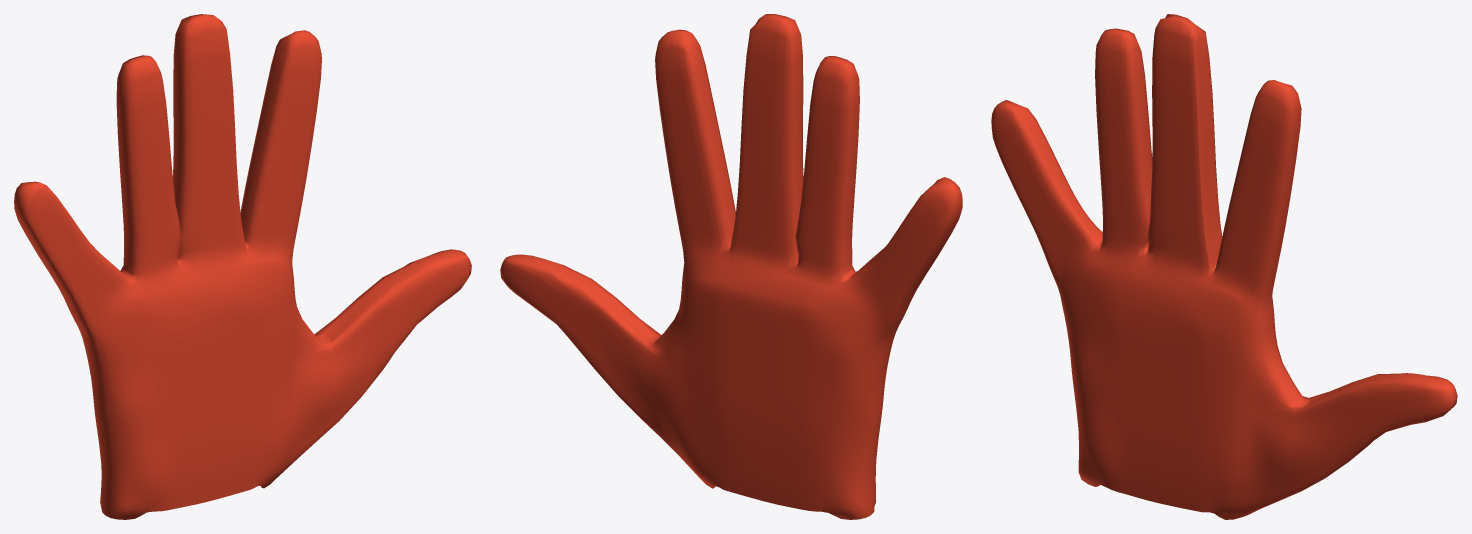
Rendered from hand2orange.glb.
3 renders of one model, left to right at view 1: azimuth 30°, elevation 25°; view 2: azimuth 150°, elevation 25°; view 3: azimuth 330°, elevation 25°, orthographic.
Visible parts, largest first — view 1: Cube; view 2: Cube; view 3: Cube.
Boxes of the visible parts, x1,y1,x2,y2 form: Cube: (14,14,471,519); Cube: (500,14,962,519); Cube: (991,14,1457,519).
Bounding box in the file's own units: 6.77 × 6.82 × 0.9034.
